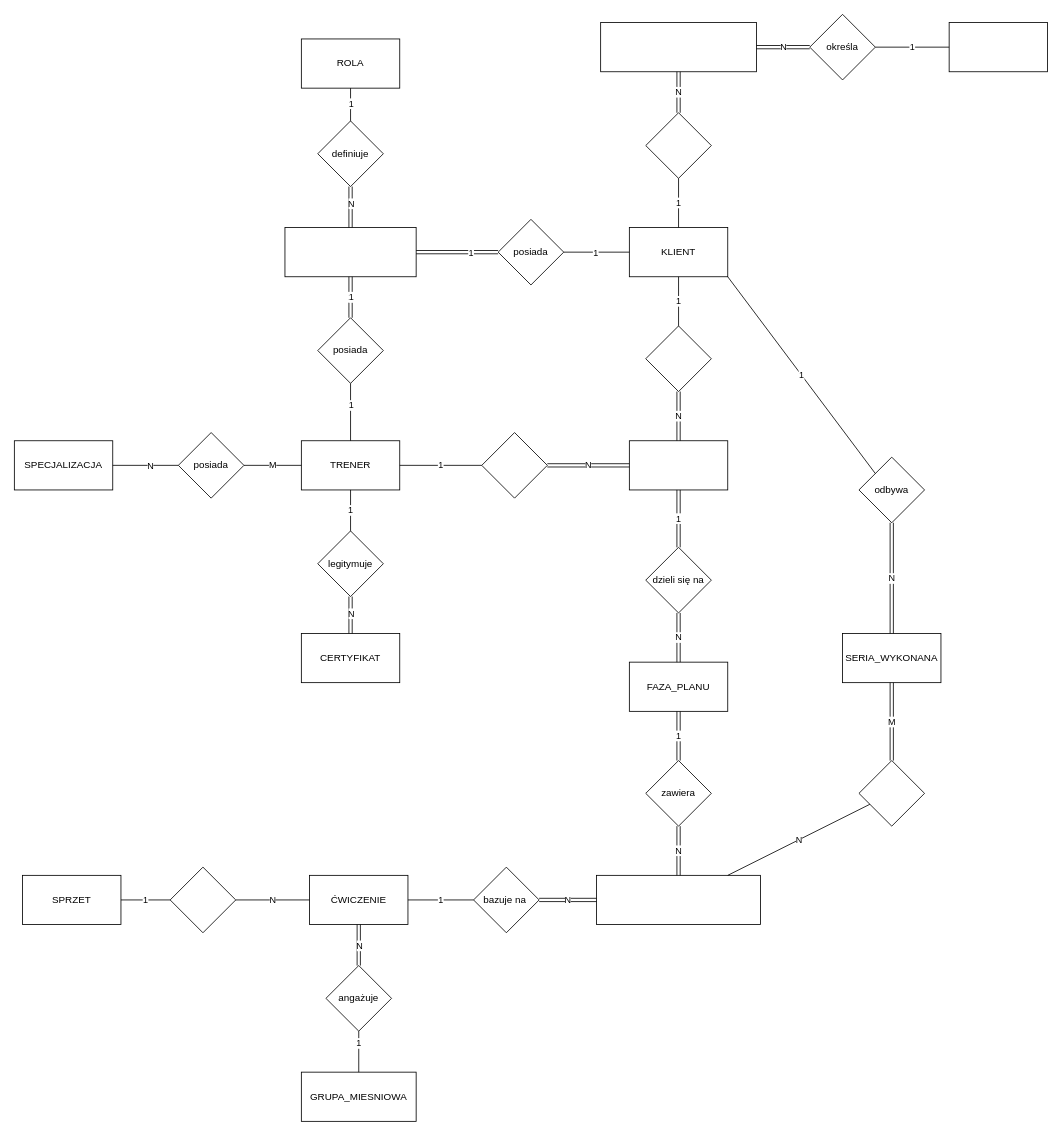
Image size: 1062x1136. Some labels were removed from this diagram. The centre of each missing label's shape, as x and y in pixels:
JEDNOSTKA_CWICZENIOWA: point 678,900
KONTO_UZYTKOWNIKA: point 350,252
PLAN_TRENINGOWY: point 678,465
POMIAR_BIOMETRYCZNY: point 678,47
realizuje: point 678,358
TYP_POMIARU: point 998,47
układa: point 514,465
wykonuje: point 678,145
wymaga: point 202,899
zapisuje: point 891,793
